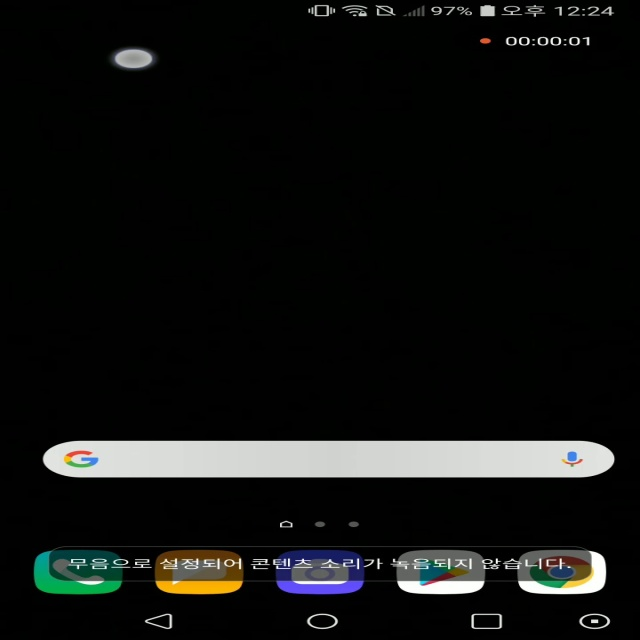Cursor: (112, 48, 156, 70)
